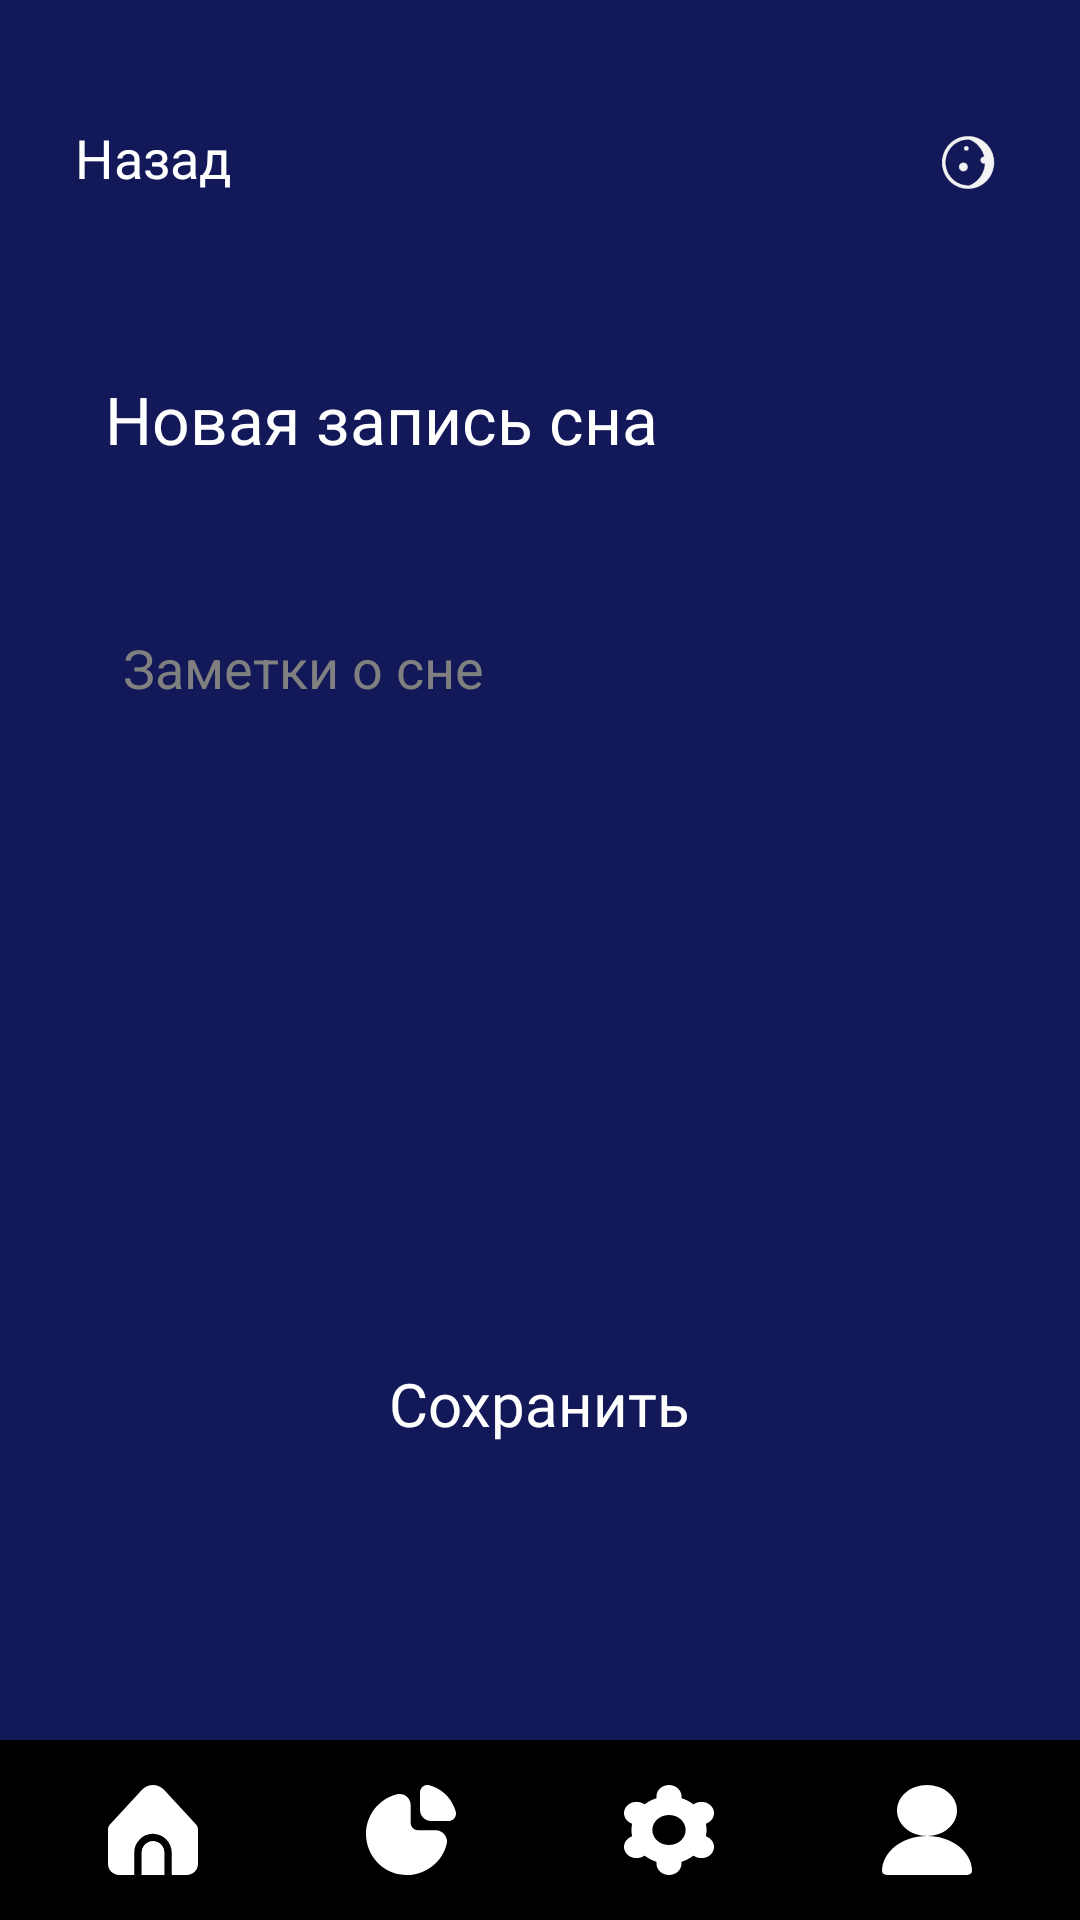

Locate icon controls on the screen. Image size 1080 × 1920, boxes as (x1, y1, x2, y2).
Анализ: (366, 1785, 456, 1875)
Главная: (108, 1785, 198, 1875)
Настройки: (624, 1785, 714, 1875)
Профиль: (882, 1785, 972, 1875)
